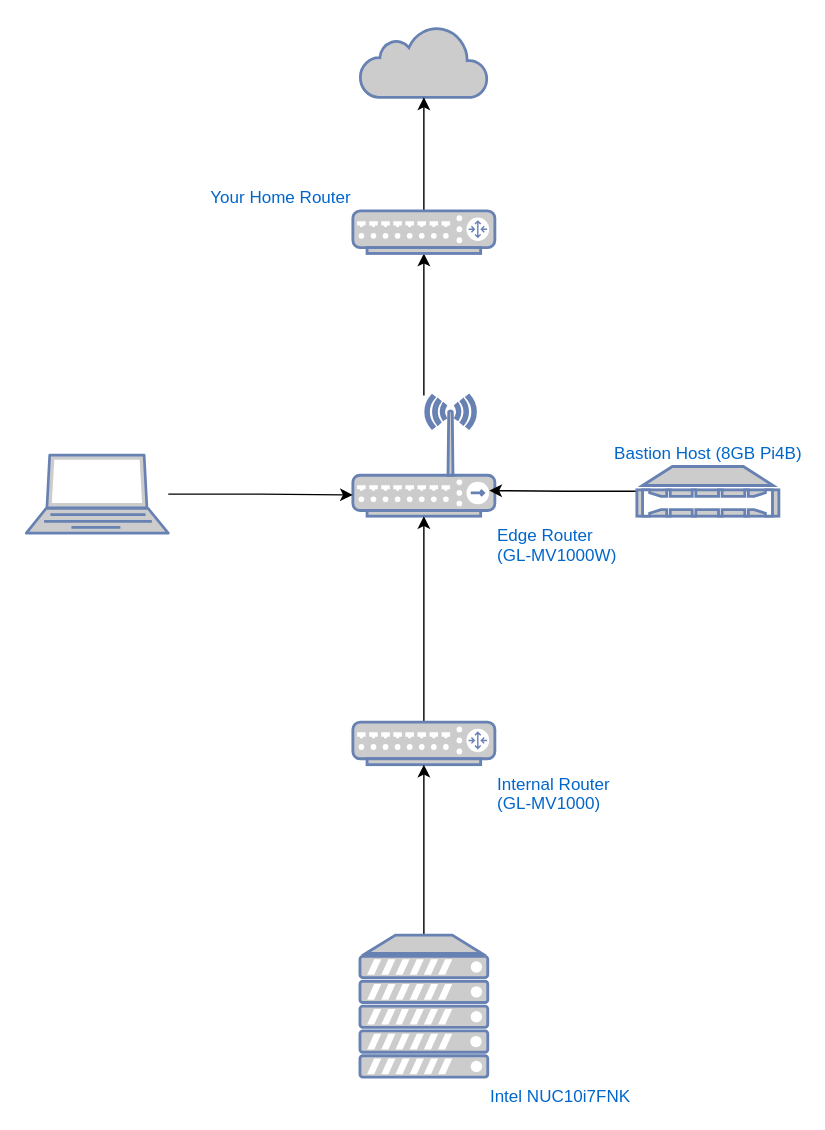
This 825x1130 diagram has some shape labels left out. The shapes that lost their labels are listed below. From the top down, each one's box as (x1, y1, x2, y2) in pixels, then its label:
(358, 24, 488, 98): Internet
(24, 453, 169, 534): Your Workstation
